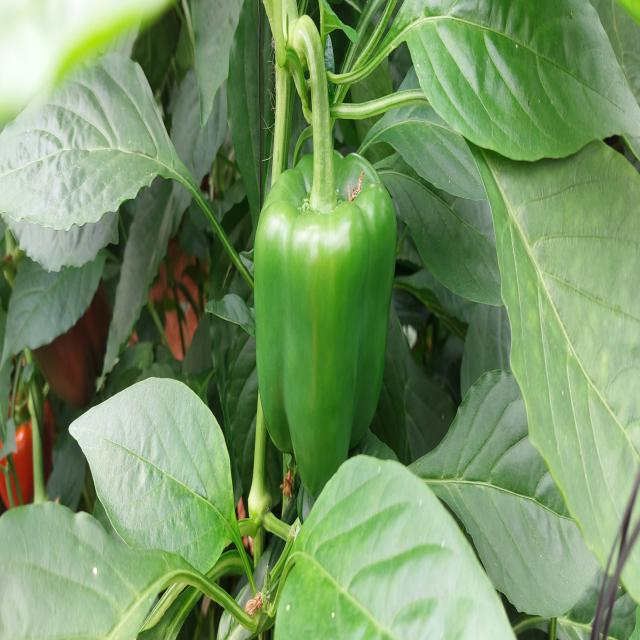Green--Not-ready-to-harvest: (254, 155, 400, 498)
